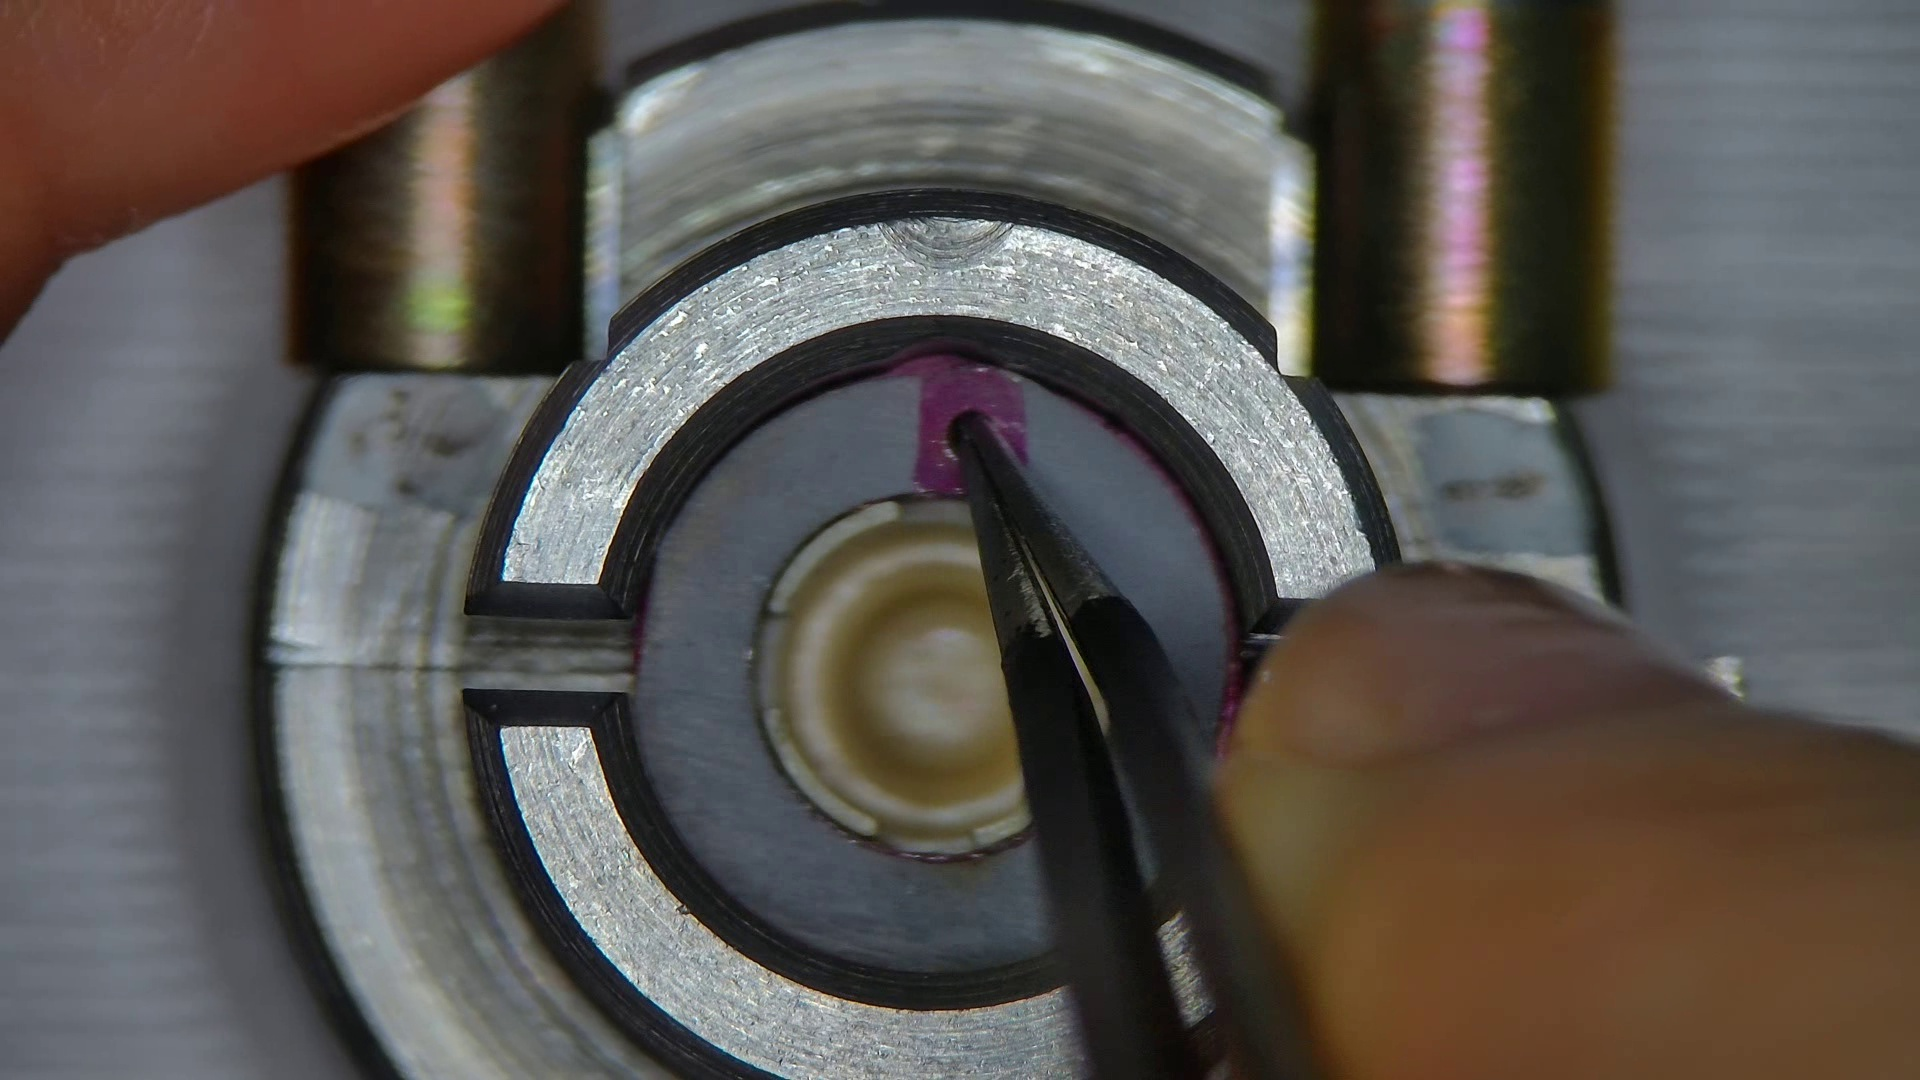YellowOring: (637, 359, 1234, 973), (1074, 894, 1081, 913)
